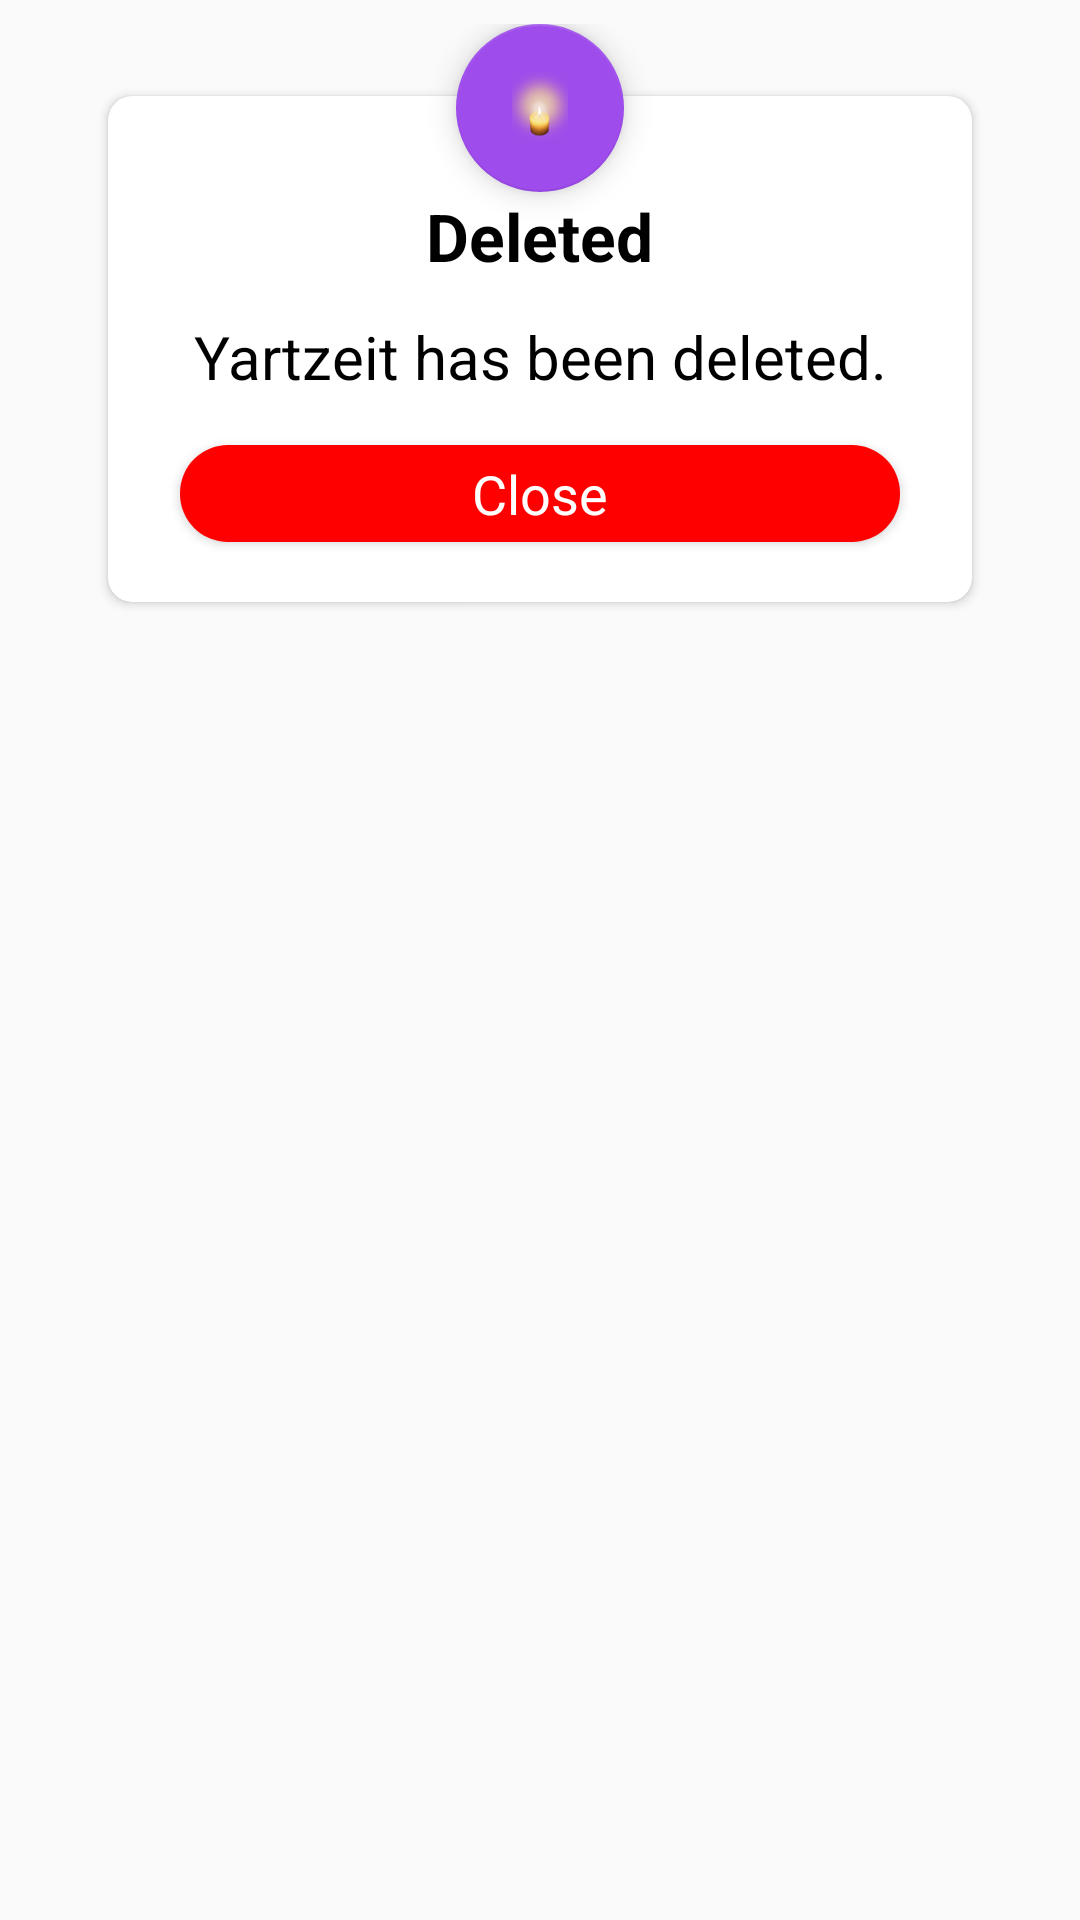

Icons on this 1080px x 1920px Android screen, each with its box as (x1, y1, x2, y2):
candle: (456, 24, 624, 192)
